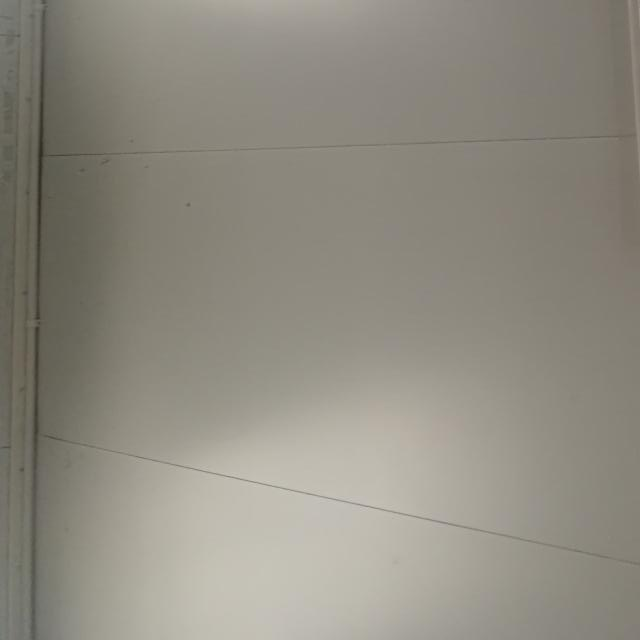fluorescent tube: (555, 0, 640, 275)
